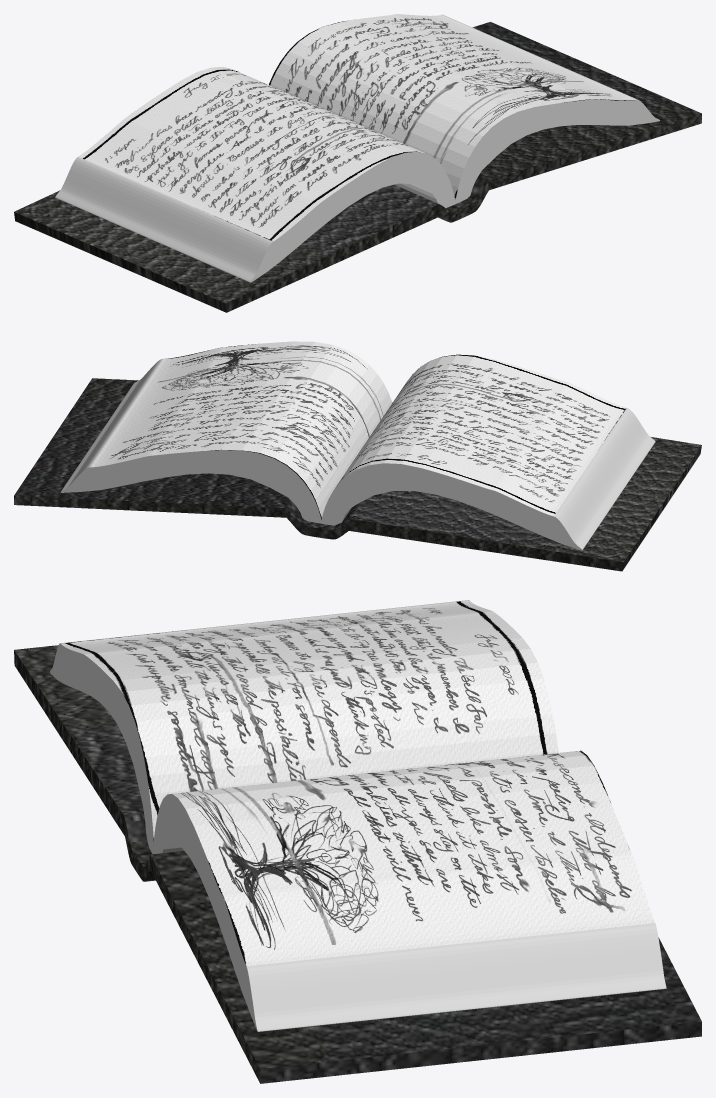
The model's file is deskJournal.glb.
3 renders of one model, top to bottom at view 1: azimuth 30°, elevation 25°; view 2: azimuth 150°, elevation 25°; view 3: azimuth 270°, elevation 25°, orthographic. The views are drawn at different scales.
Parts seen in each view (by area): view 1: BézierCurve.001; view 2: BézierCurve.001; view 3: BézierCurve.001.
Part boxes in pixels (box(x1,y1,x2,y2)): BézierCurve.001: box(14, 14, 701, 312); BézierCurve.001: box(14, 341, 701, 571); BézierCurve.001: box(14, 600, 701, 1083).
Size of the model in its own units: 0.8587 by 0.1145 by 0.546.
3 materials, 2 textured.
